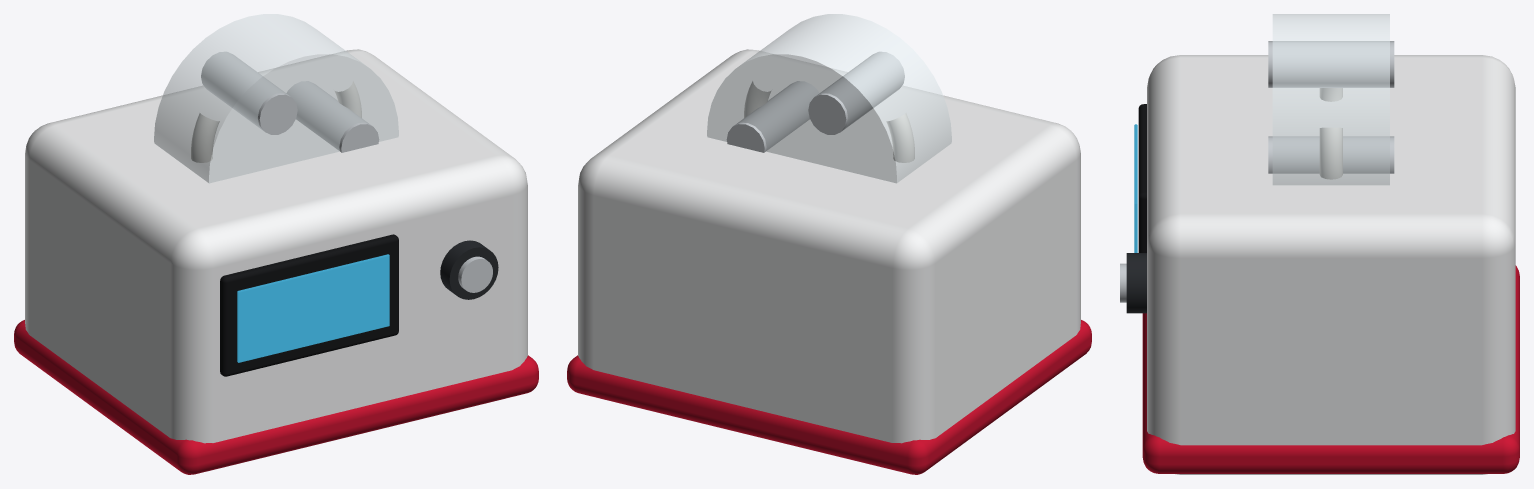
Rendered from npp-1.glb.
3 views of the same model, side by side, from view 1: azimuth 30°, elevation 25°; view 2: azimuth 150°, elevation 25°; view 3: azimuth 270°, elevation 25° (orthographic). The views are drawn at different scales.
Size of the model in its own units: 0.265 by 0.255 by 0.2385.
